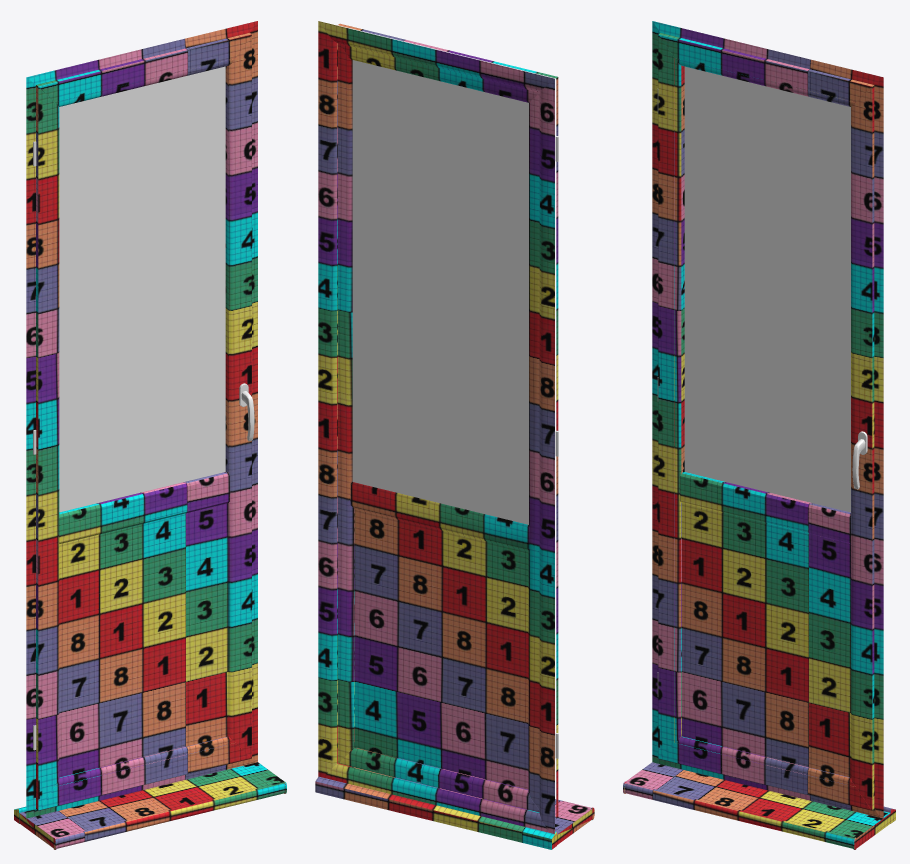
Rendered from door-fixed.glb.
3 renders of one model, left to right at view 1: azimuth 30°, elevation 25°; view 2: azimuth 150°, elevation 25°; view 3: azimuth 330°, elevation 25°, orthographic. The views are drawn at different scales.
Visible parts, largest first — view 1: mesh_1, mesh_0; view 2: mesh_1, mesh_0; view 3: mesh_1, mesh_0.
Part boxes in pixels (x1=…): mesh_1: x1=14, y1=21, x2=286, y2=849; mesh_0: x1=59, y1=66, x2=225, y2=512; mesh_1: x1=315, y1=21, x2=594, y2=849; mesh_0: x1=352, y1=60, x2=528, y2=524; mesh_1: x1=623, y1=21, x2=895, y2=849; mesh_0: x1=684, y1=66, x2=850, y2=512.
Size of the model in its own units: 67 by 208 by 21.
4 materials, 1 textured.
